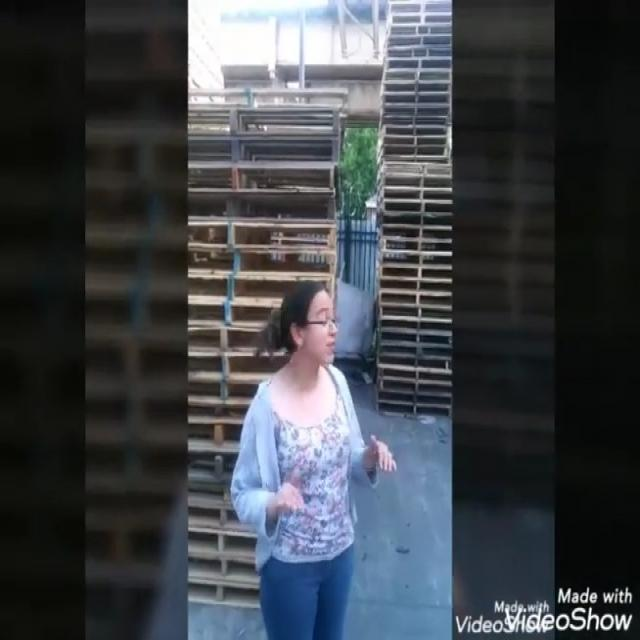Palette: (188, 93, 343, 608), (371, 2, 450, 420)
